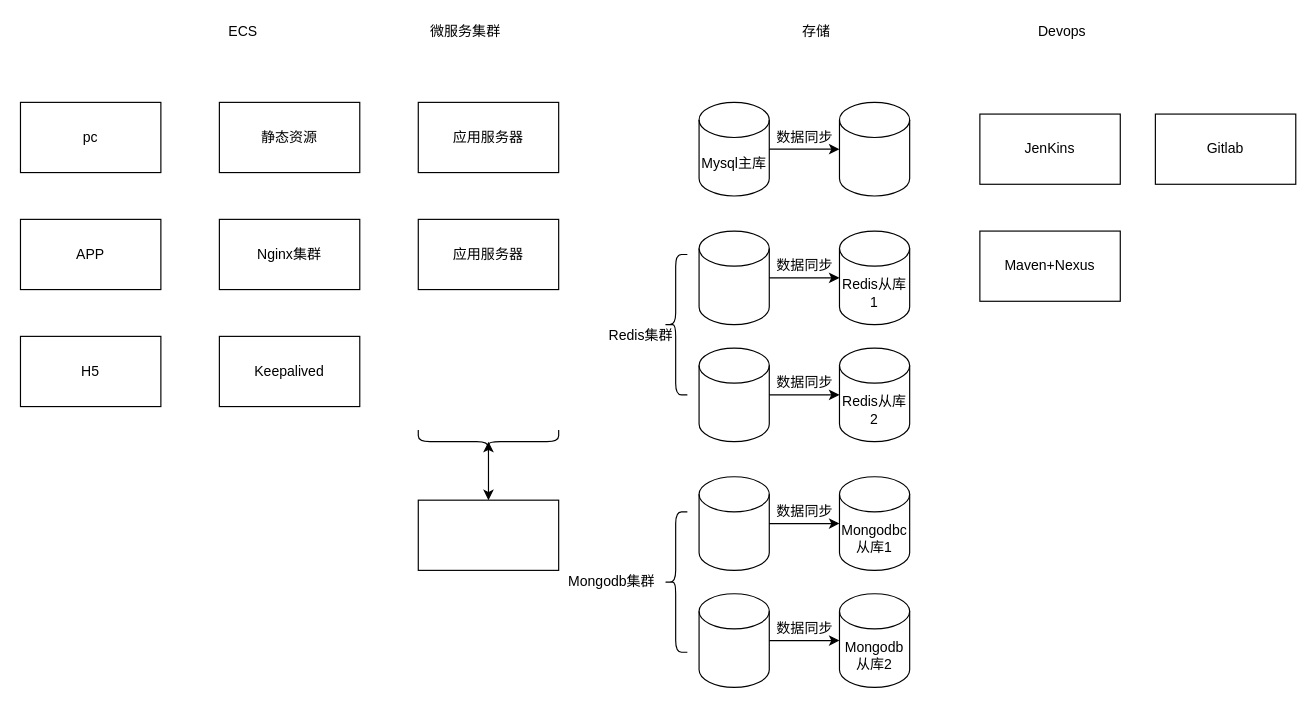
The diagram is 1316 pixels wide and 708 high, and some of its shapes have lost their labels. Each missing label, with the centre of its shape:
Mongodb主库1: the point at 733,523
Mongodb主库2: the point at 733,640
Mysql从库: the point at 874,148
Nacos集群 注册和配置中心: the point at 488,534
Redis主库1: the point at 733,277
Redis主库2: the point at 733,394
